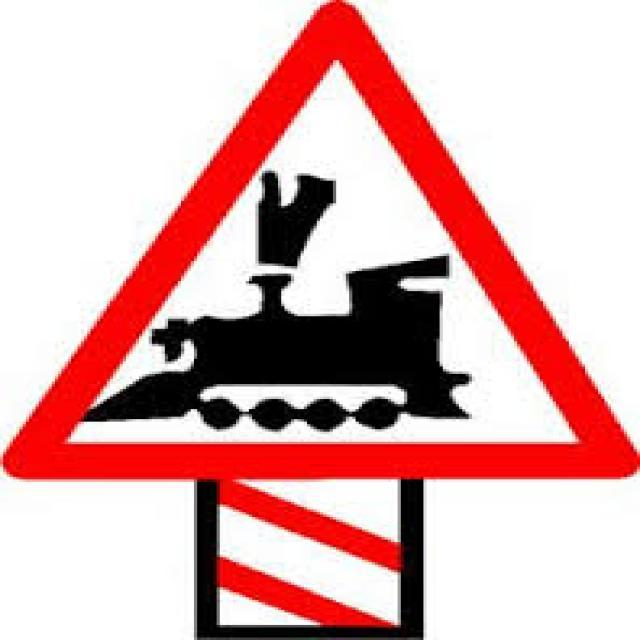unguarded level crossing: (29, 16, 611, 475)
